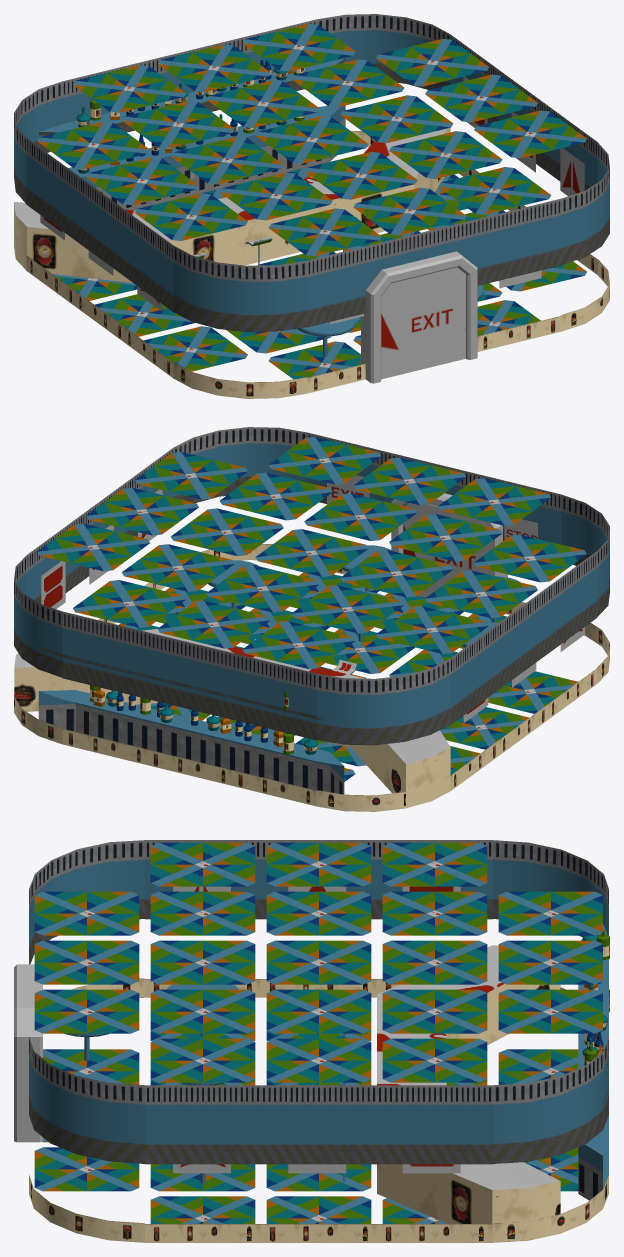
3 views of the same model, one above another, from view 1: azimuth 30°, elevation 25°; view 2: azimuth 150°, elevation 25°; view 3: azimuth 270°, elevation 25° (orthographic). The views are drawn at different scales.
Parts seen in each view (by area): view 1: gate:pCube1, corner, counter, pCube2, pCube4, pCylinder18, pCylinder19, pCube12, pCube11, pCube13, shelf, pPlane47 (+38 smaller); view 2: shelf, pCylinder20, counter, pCube6, pCube7, pCube5, pCylinder18, pCylinder19, pCube13, pCube12, pCube11, corner (+39 smaller); view 3: counter, pCylinder19, pCylinder18, pCube8, pCube9, pCube10, corner, pCylinder20, pPlane47, pPlane49, pPlane50, pPlane51 (+37 smaller).
Part boxes in pixels (x1,y1,x2,y2): gate:pCube1: (361,251,477,383); corner: (173,246,307,398); counter: (14,127,450,282); pCube2: (477,198,561,351); pCube4: (307,240,391,393); pCylinder18: (561,142,609,331); pCylinder19: (317,14,450,147); pCube12: (75,174,124,342); pCube11: (26,138,75,306); pCube13: (124,210,173,378); shelf: (68,105,345,209); pPlane47: (353,187,466,235); shelf: (38,690,344,794); pCylinder20: (316,659,450,811); counter: (14,629,450,808); pCube6: (62,611,147,764); pCube7: (147,632,231,785); pCube5: (232,653,316,806); pCylinder18: (173,427,307,560); pCylinder19: (14,555,62,744); pCube13: (548,551,597,719); pCube12: (499,587,548,755); pCube11: (450,623,499,790); corner: (561,494,609,683); counter: (377,945,560,1223); pCylinder19: (493,1037,608,1242); pCylinder18: (29,1037,144,1242); pCube8: (377,1085,492,1242); pCube9: (261,1085,376,1242); pCube10: (145,1085,260,1242); corner: (29,840,144,997); pCylinder20: (493,840,608,989); pPlane47: (34,940,139,984); pPlane49: (150,891,255,935); pPlane50: (266,891,371,935); pPlane51: (150,842,255,886).
Bounding box in the file's own units: 10 × 3.01 × 10.28.
